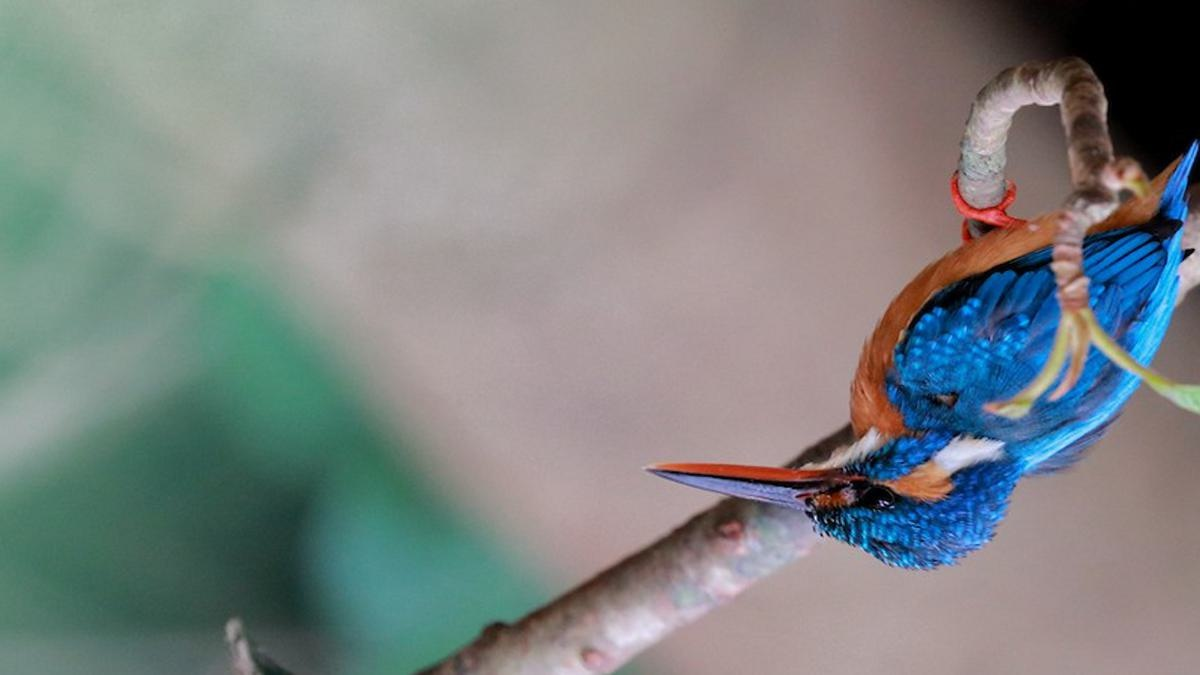kingfisher: (654, 71, 1200, 566)
